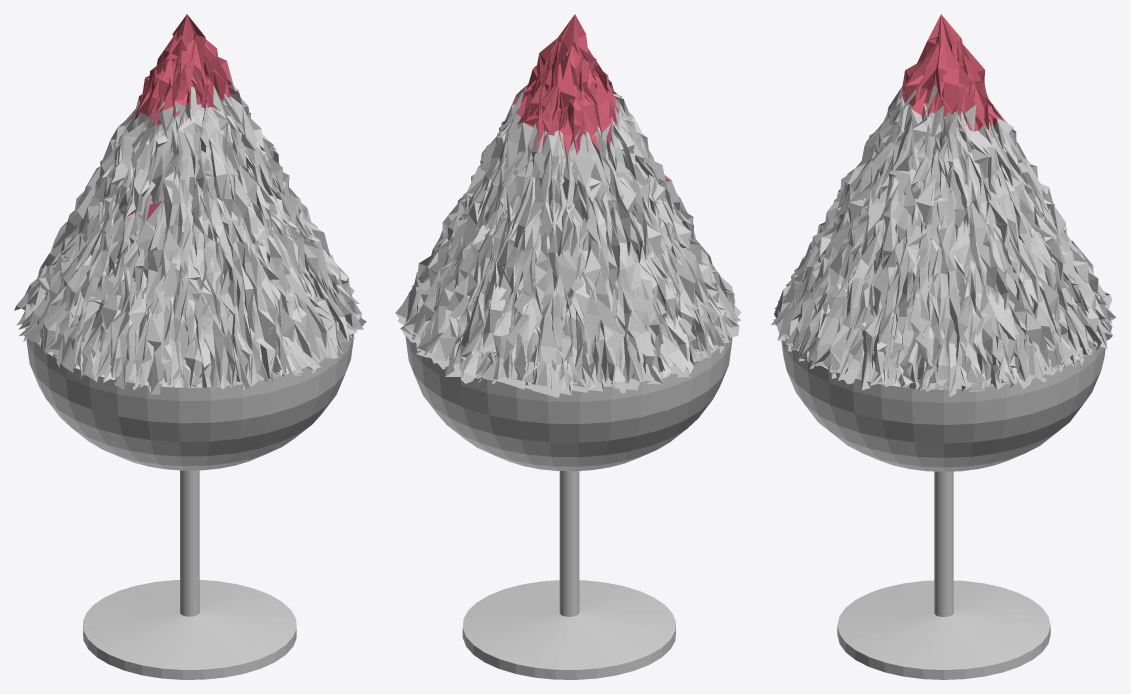
File: Glass2.fbx
3 views of the same model, side by side, from view 1: azimuth 30°, elevation 25°; view 2: azimuth 150°, elevation 25°; view 3: azimuth 270°, elevation 25° (orthographic).
Visible parts, largest first — view 1: Cube; view 2: Cube; view 3: Cube.
Part boxes in pixels (x1,y1,x2,y2): Cube: (14, 14, 366, 679); Cube: (395, 14, 741, 679); Cube: (771, 14, 1116, 679).
Bounding box in the file's own units: 256 × 515 × 261.
